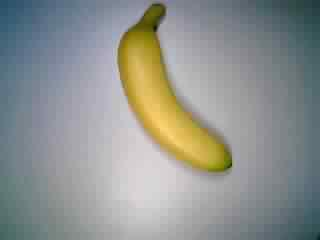banana: (113, 2, 244, 179)
